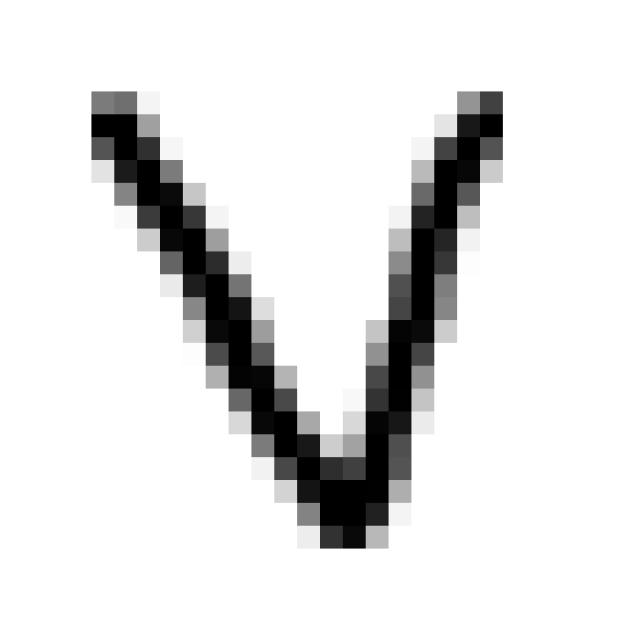7 -seven-: (66, 66, 525, 569)
